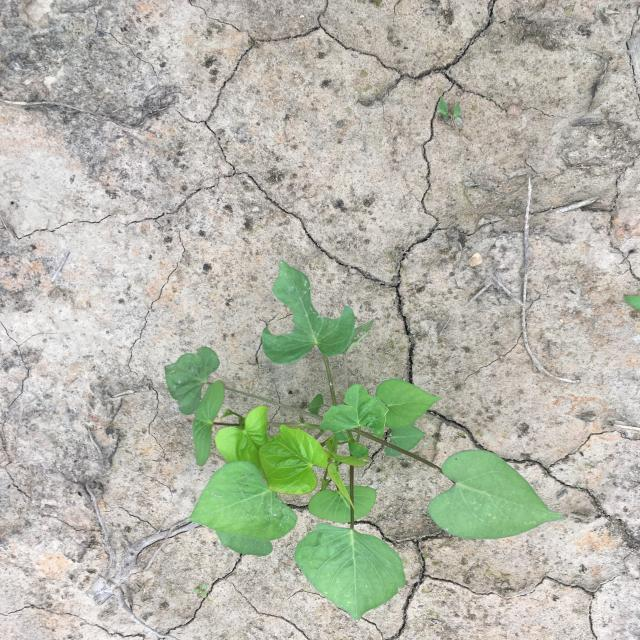Carpetweed: (194, 583, 208, 598)
MorningGlory: (164, 260, 566, 622)
